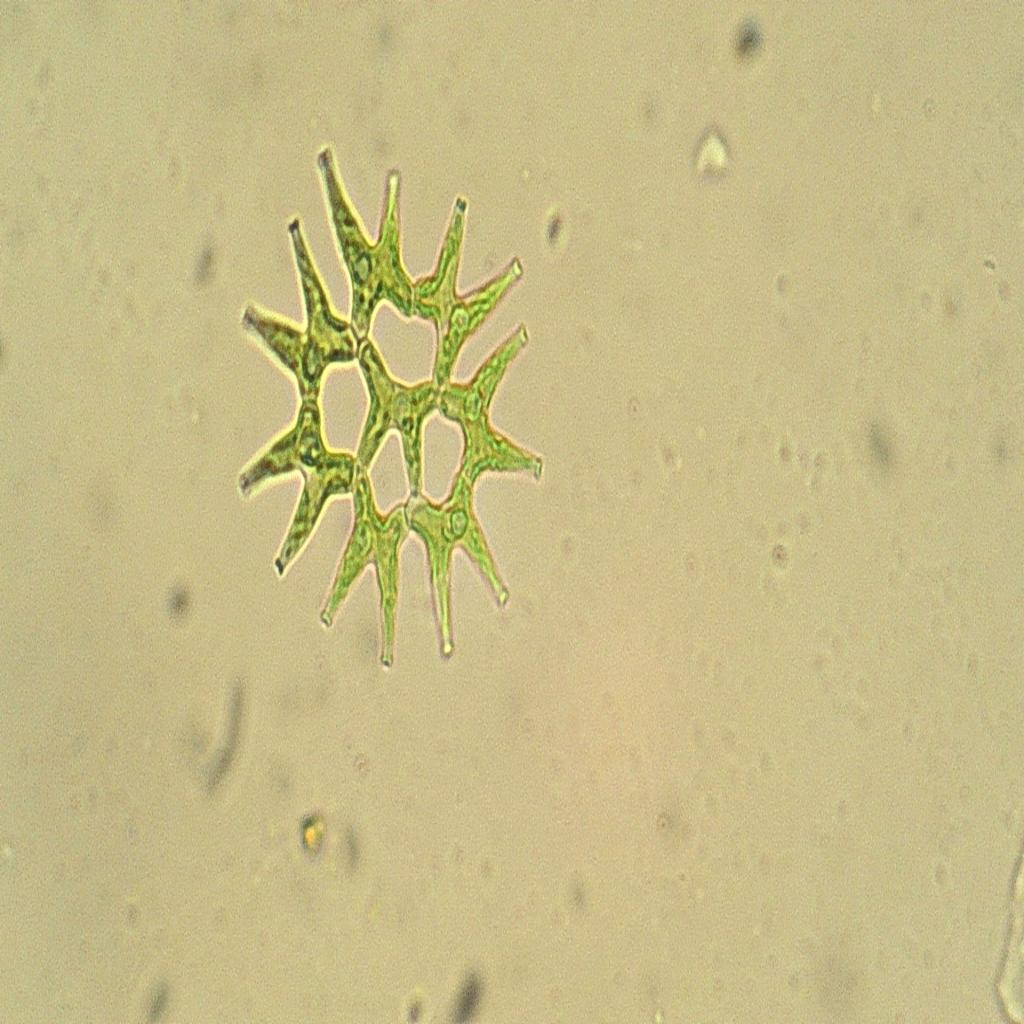Pediastrum_75T: (225, 136, 557, 686)
